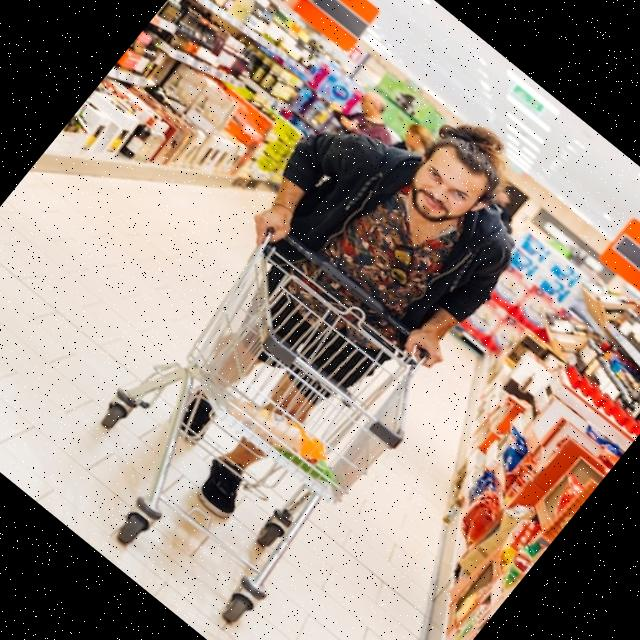Person: (84, 41, 574, 564)
